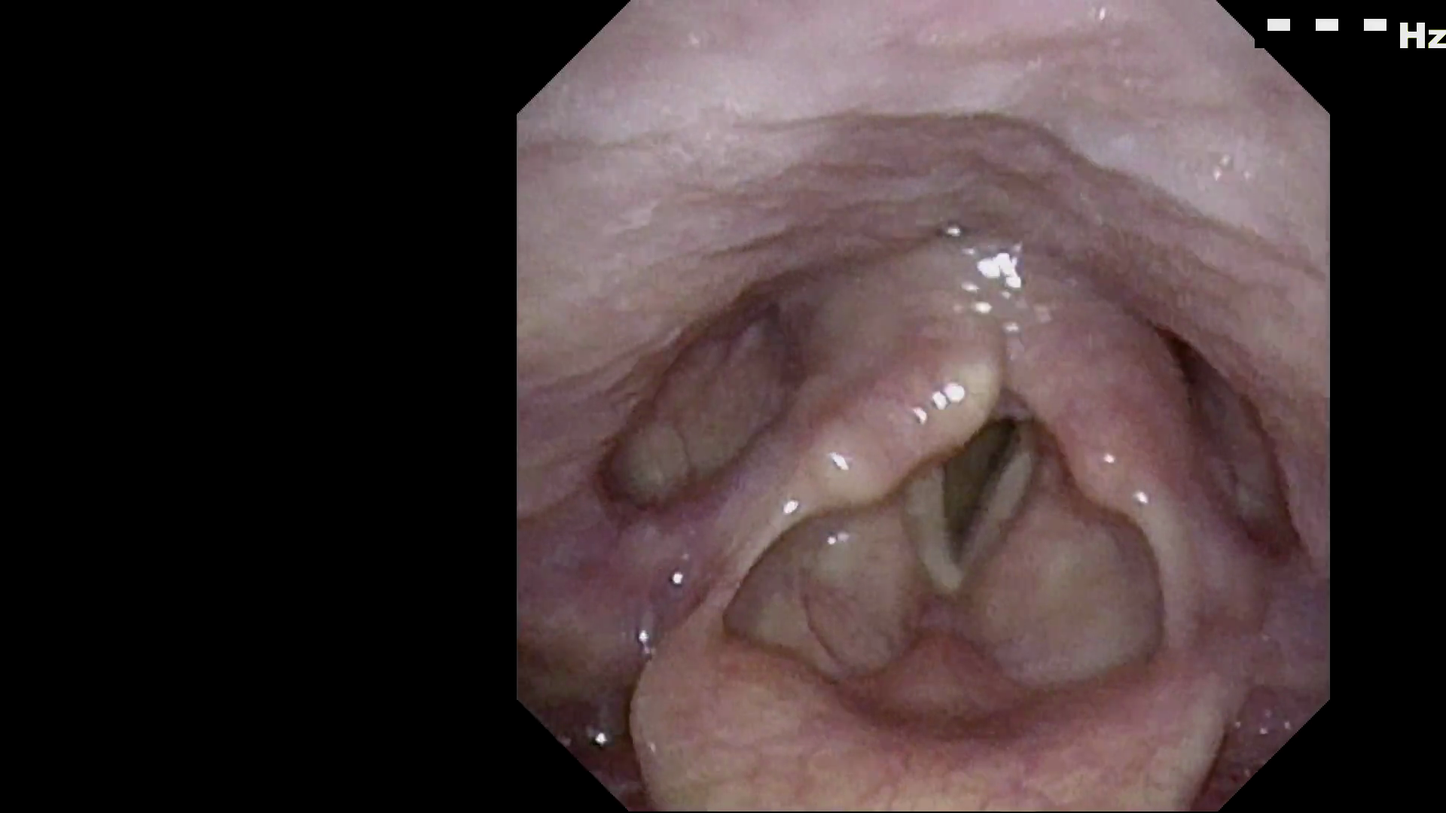epiglottis: (601, 525, 1242, 766)
trachea: (879, 383, 1058, 608)
